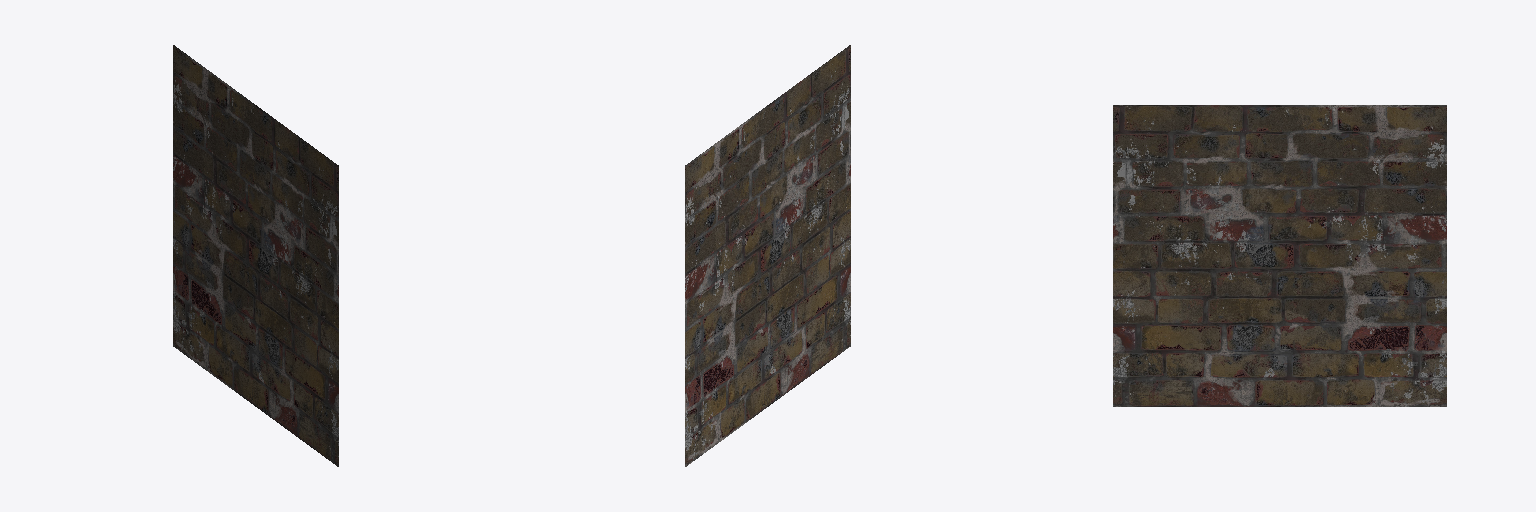
3 renders of one model, left to right at view 1: azimuth 30°, elevation 25°; view 2: azimuth 150°, elevation 25°; view 3: azimuth 270°, elevation 25°, orthographic.
Visible parts, largest first — view 1: bricks_0020_color_2k; view 2: bricks_0020_color_2k; view 3: bricks_0020_color_2k.
Boxes of the visible parts, box(x1,y1,x2,y2) form: bricks_0020_color_2k: box(173, 45, 338, 466); bricks_0020_color_2k: box(685, 45, 850, 466); bricks_0020_color_2k: box(1113, 105, 1446, 406).
Size of the model in its own units: 0 by 1 by 1.
1 materials, 1 textured.